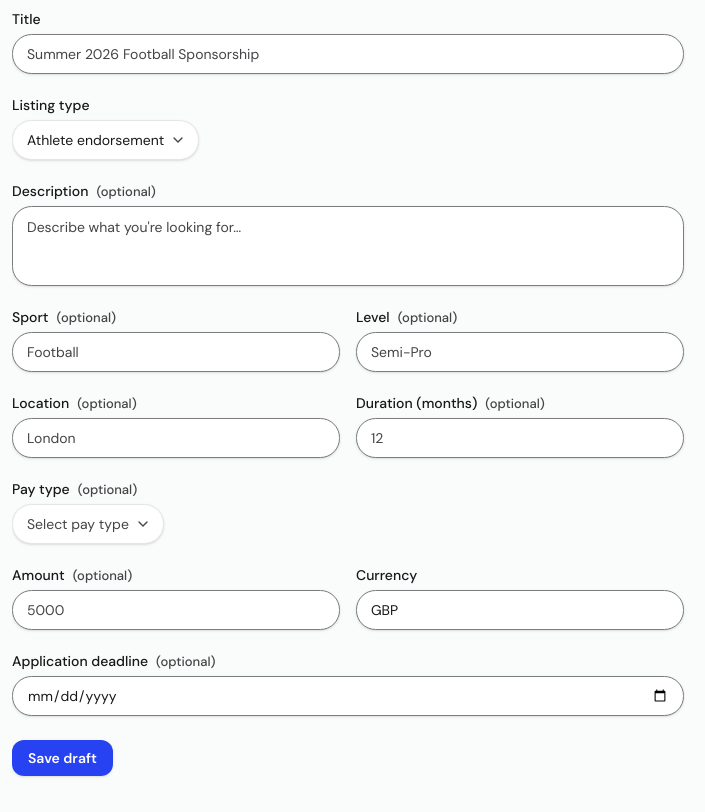
it: ListingForm › shows validation error when title is empty
Click the button "Save draft" at x=62, y=758, box x1=12 y1=740 x2=113 y2=776
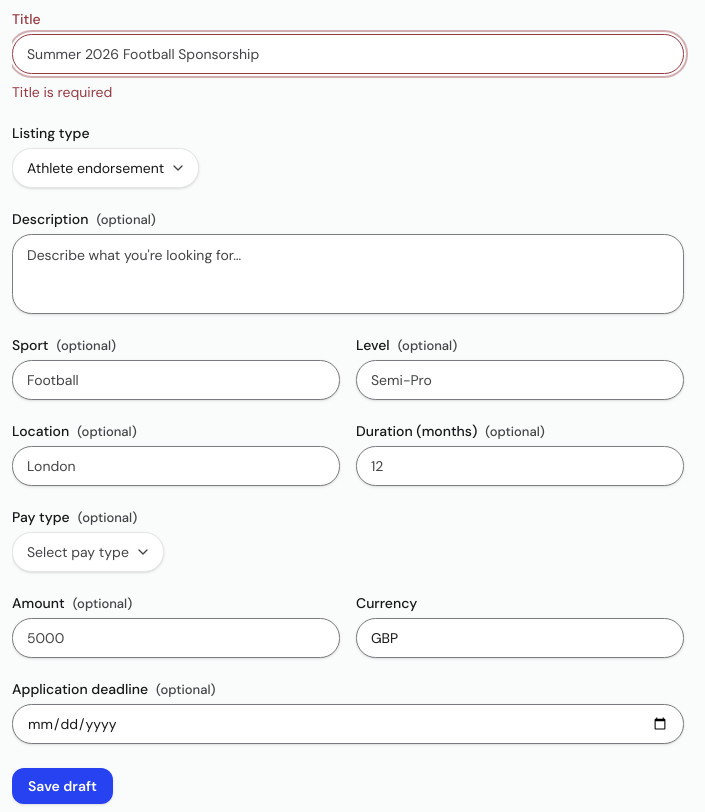
Expected: the text "Title is required" is shown, x1=12 y1=83 x2=112 y2=101
